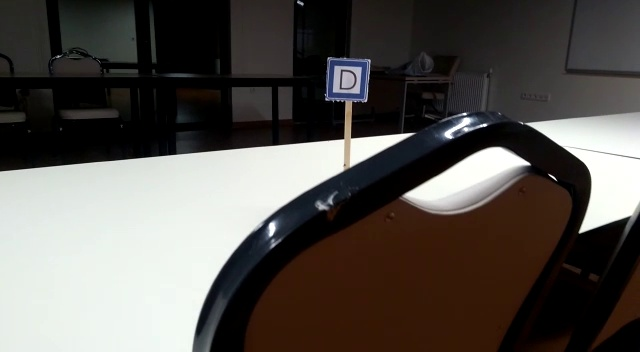durak: (324, 58, 370, 100)
